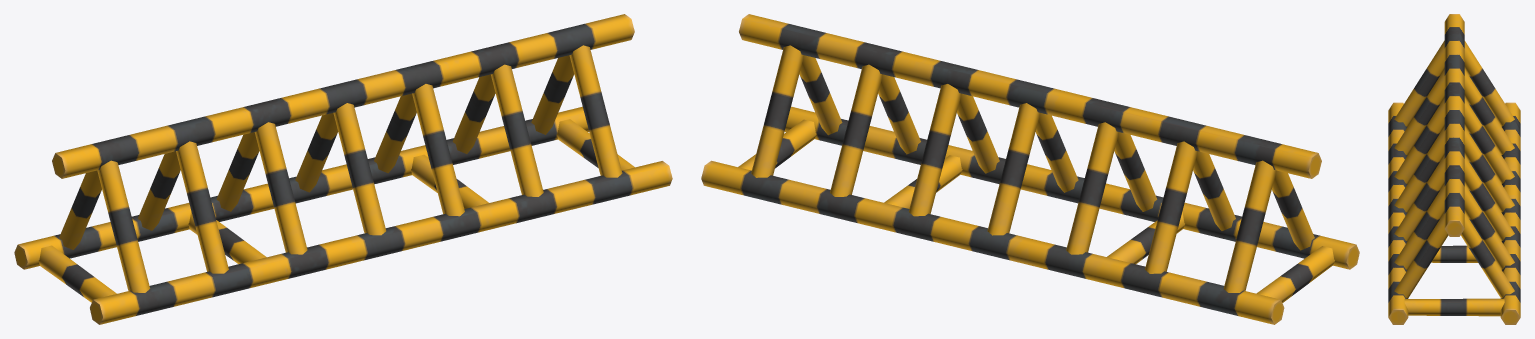
The model's file is Pfb_Roadblock__2.fbx.
The picture shows the model from 3 angles, left to right: view 1: azimuth 30°, elevation 25°; view 2: azimuth 150°, elevation 25°; view 3: azimuth 270°, elevation 25°; orthographic projection. The views are drawn at different scales.
Parts seen in each view (by area): view 1: Mat_Roadblocks01; view 2: Mat_Roadblocks01; view 3: Mat_Roadblocks01.
Boxes of the visible parts, box(x1,y1,x2,y2) form: Mat_Roadblocks01: box(14, 14, 672, 324); Mat_Roadblocks01: box(701, 14, 1359, 324); Mat_Roadblocks01: box(1388, 14, 1520, 324).
Size of the model in its own units: 4.45 by 1.04 by 1.2.
1 material, 1 textured.
